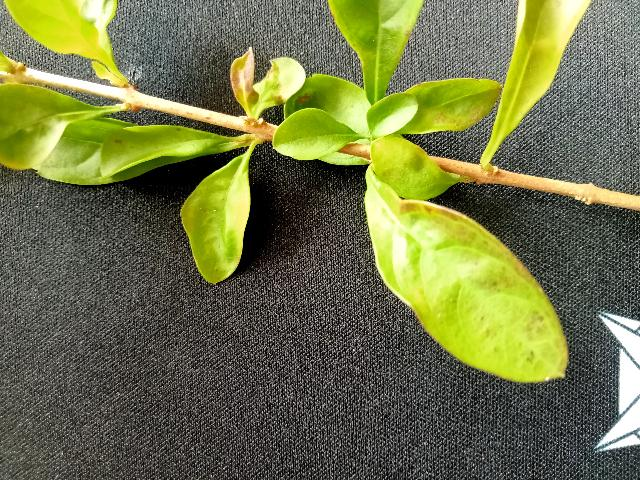pylokantus: (0, 0, 578, 422)
